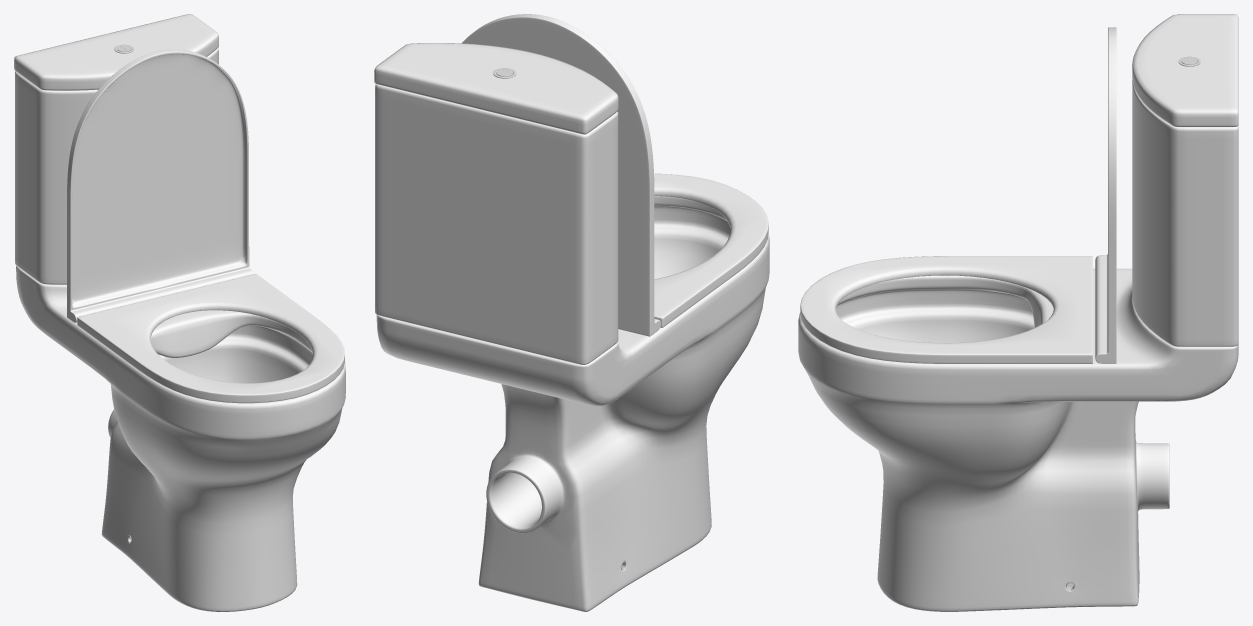
File: toilet.glb
3 views of the same model, side by side, from view 1: azimuth 30°, elevation 25°; view 2: azimuth 150°, elevation 25°; view 3: azimuth 270°, elevation 25° (orthographic). The views are drawn at different scales.
Visible parts, largest first — view 1: TOILET-ceramic, TOILET_cover top, TOILET_cover bottom; view 2: TOILET-ceramic, TOILET_cover top, TOILET_cover bottom; view 3: TOILET-ceramic, TOILET_cover bottom, TOILET_cover top.
Boxes of the visible parts, left/top/right/bottom form: TOILET-ceramic: left=14, top=14, right=345, bottom=611; TOILET_cover top: left=67, top=49, right=254, bottom=322; TOILET_cover bottom: left=77, top=274, right=344, bottom=403; TOILET-ceramic: left=374, top=43, right=769, bottom=611; TOILET_cover top: left=462, top=14, right=660, bottom=336; TOILET_cover bottom: left=654, top=173, right=768, bottom=327; TOILET-ceramic: left=798, top=14, right=1238, bottom=611; TOILET_cover bottom: left=800, top=256, right=1092, bottom=363; TOILET_cover top: left=1095, top=27, right=1116, bottom=363.
Bounding box in the file's own units: 0.359 × 0.9203 × 0.675.
Materials: 3 (3 with a texture image).
